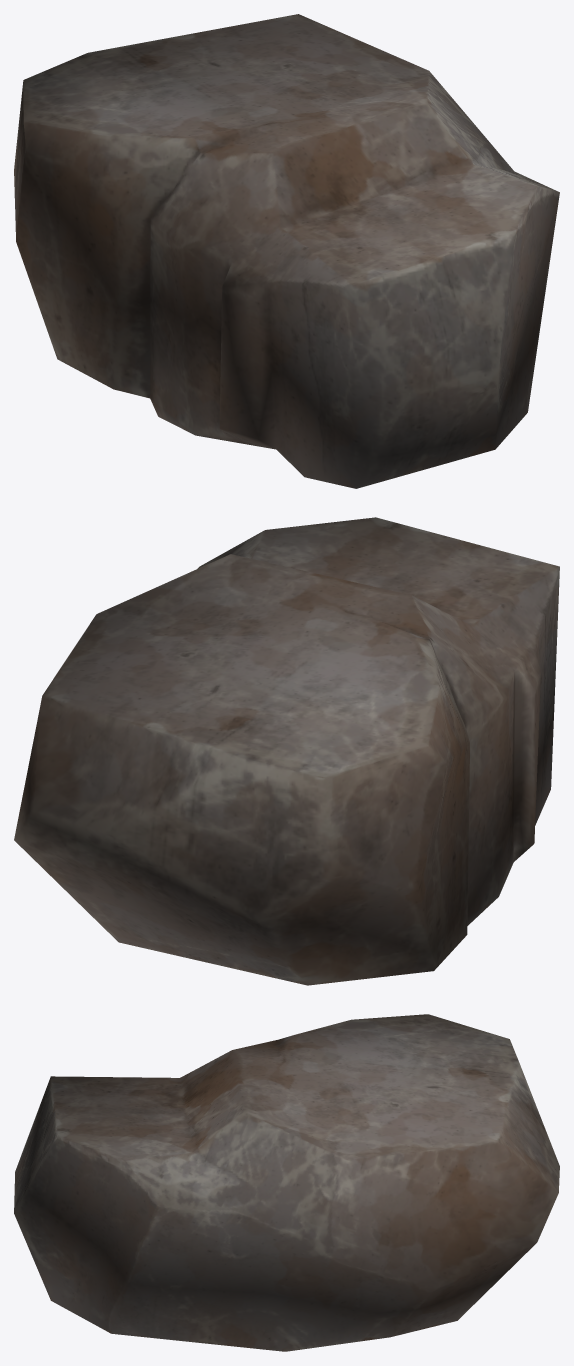
Rendered from Stone_01_a.fbx.
3 views of the same model, one above another, from view 1: azimuth 30°, elevation 25°; view 2: azimuth 150°, elevation 25°; view 3: azimuth 270°, elevation 25° (orthographic). The views are drawn at different scales.
Parts seen in each view (by area): view 1: Stone_01_a; view 2: Stone_01_a; view 3: Stone_01_a.
Part boxes in pixels (x1=…): Stone_01_a: x1=14, y1=14, x2=559, y2=488; Stone_01_a: x1=14, y1=517, x2=559, y2=985; Stone_01_a: x1=14, y1=1014, x2=559, y2=1351.
Bounding box in the file's own units: 134 × 93.79 × 198.
